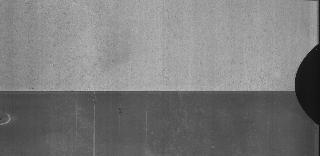welding line: (0, 86, 300, 98)
